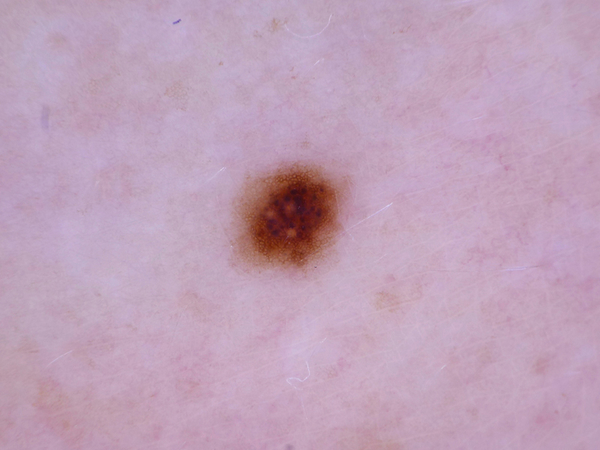Detected Lesion: (229, 161, 352, 276)
